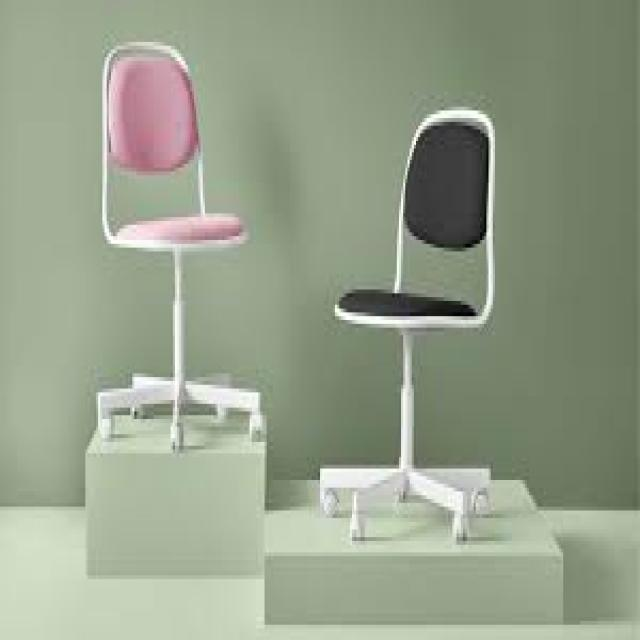chair: (290, 47, 550, 582), (35, 22, 284, 471)
